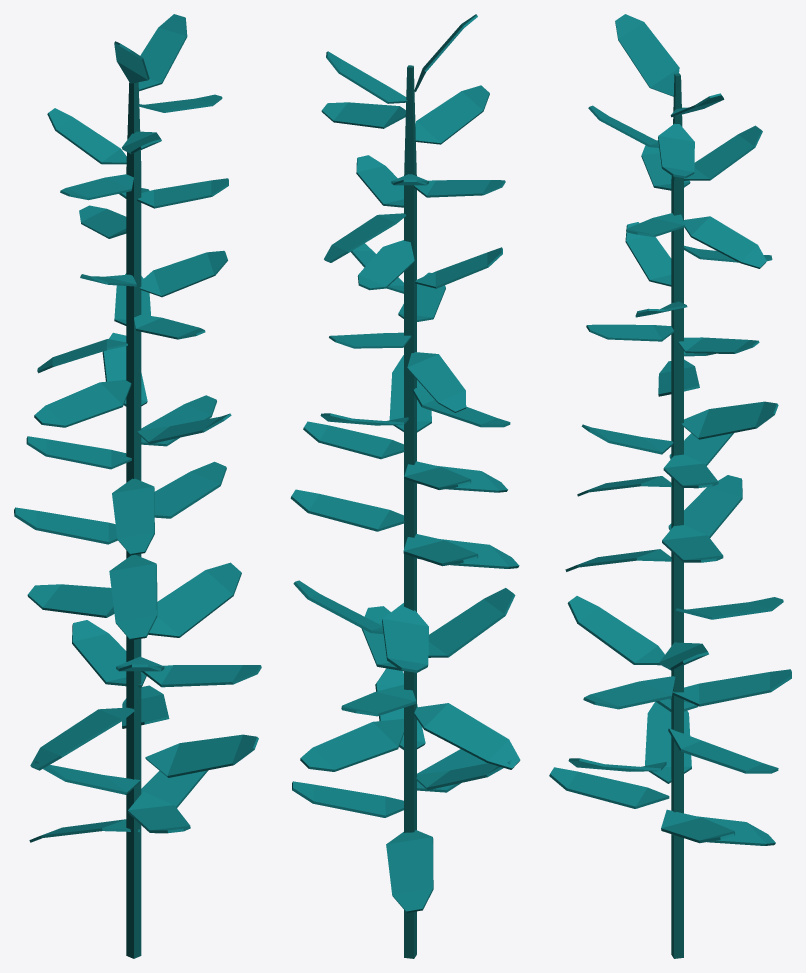
File: Seaweed_017.glb
3 renders of one model, left to right at view 1: azimuth 30°, elevation 25°; view 2: azimuth 150°, elevation 25°; view 3: azimuth 270°, elevation 25°, orthographic. The views are drawn at different scales.
Visible parts, largest first — view 1: Seaweed_017; view 2: Seaweed_017; view 3: Seaweed_017.
Boxes of the visible parts, x1,y1,x2,y2 form: Seaweed_017: (14,14,261,958); Seaweed_017: (290,14,520,958); Seaweed_017: (549,14,791,958).
Size of the model in its own units: 0.524 by 2.2 by 0.5239.
1 material, 1 textured.
